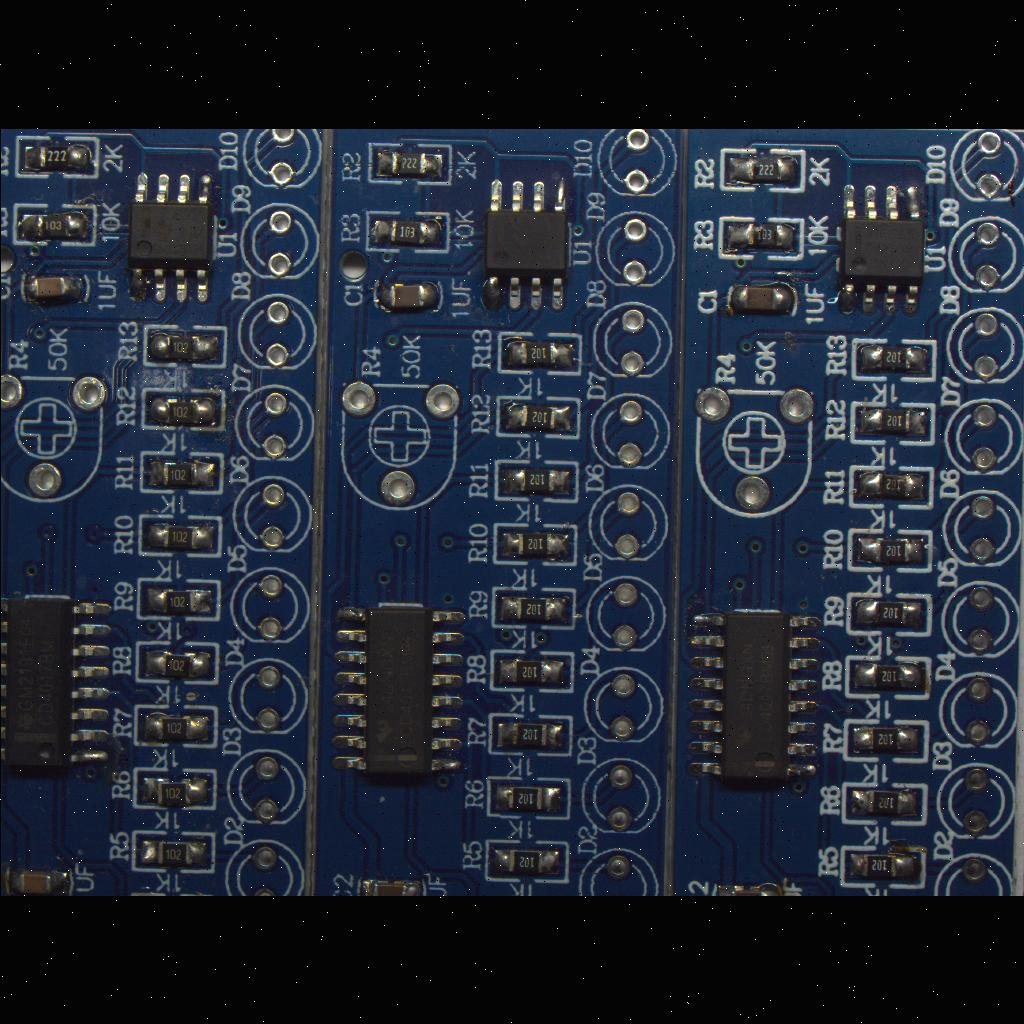OK: (319, 596, 473, 786), (680, 596, 828, 792), (0, 584, 119, 780), (832, 168, 930, 324), (476, 166, 576, 318), (123, 160, 219, 312), (834, 838, 930, 892), (716, 142, 810, 196), (842, 524, 934, 578), (846, 334, 940, 386), (494, 326, 584, 380), (484, 709, 576, 761), (490, 454, 582, 506), (138, 320, 230, 372), (840, 716, 932, 766), (482, 772, 574, 822), (128, 828, 220, 878), (480, 836, 572, 886), (842, 588, 934, 638), (134, 512, 226, 562), (492, 392, 584, 442), (713, 212, 805, 262), (844, 461, 936, 511), (485, 646, 577, 696), (846, 398, 938, 448), (842, 651, 932, 701), (489, 518, 579, 568), (363, 206, 453, 256), (8, 200, 98, 250), (12, 131, 102, 181), (838, 780, 930, 828), (132, 575, 224, 623), (127, 765, 219, 813), (364, 140, 456, 188), (136, 448, 228, 496), (130, 702, 218, 752), (490, 584, 580, 632), (138, 384, 226, 432), (133, 640, 221, 686), (722, 276, 800, 324), (366, 274, 450, 318), (14, 264, 94, 308)
